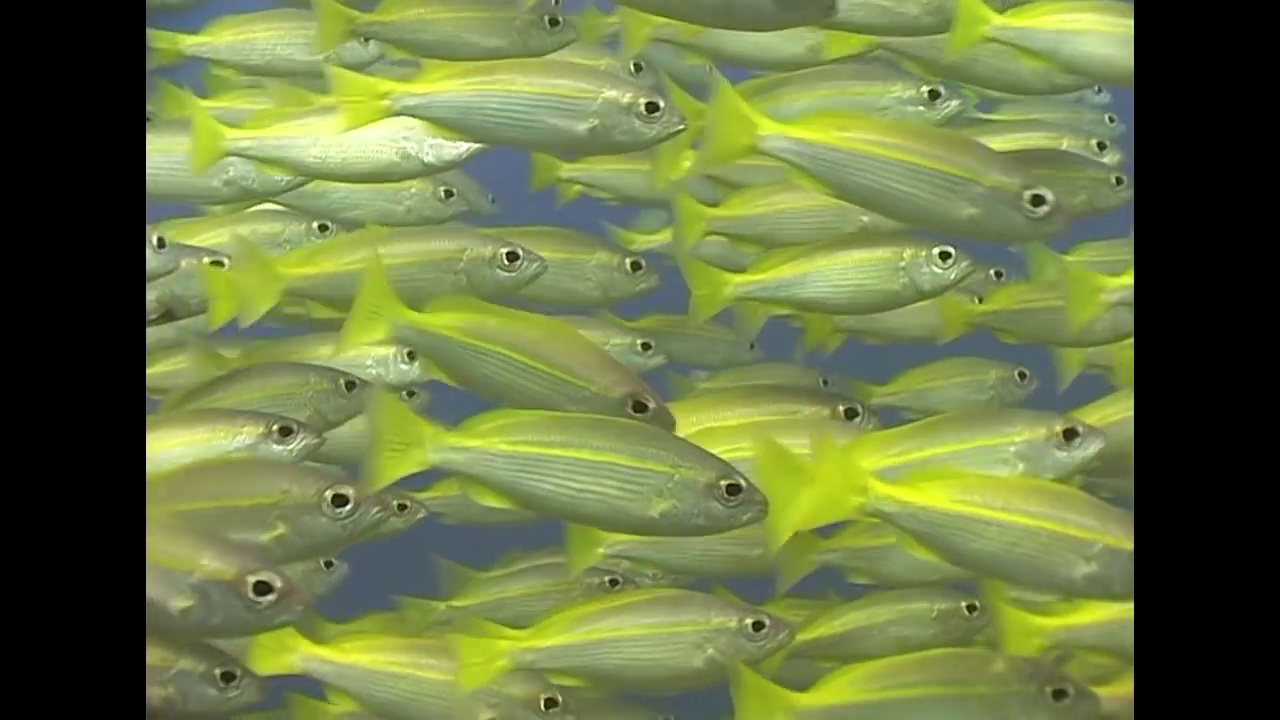big eye snapper: (702, 59, 1071, 238), (759, 424, 1131, 601), (364, 373, 769, 532), (351, 243, 675, 431), (449, 589, 802, 688), (225, 224, 550, 331), (265, 617, 578, 717), (771, 399, 1107, 490), (181, 86, 483, 175), (146, 462, 393, 563), (327, 71, 691, 136), (725, 655, 1100, 718), (679, 239, 973, 317), (767, 573, 998, 671), (144, 523, 309, 638), (728, 66, 967, 135), (666, 379, 876, 457), (662, 179, 878, 246), (946, 6, 1132, 81), (845, 345, 1038, 416), (149, 12, 381, 64), (309, 7, 582, 51), (523, 142, 714, 201), (269, 164, 480, 216), (169, 361, 381, 412), (146, 412, 332, 469), (496, 243, 661, 306), (142, 638, 271, 717), (986, 139, 1134, 207), (145, 197, 341, 244), (386, 566, 627, 602), (968, 93, 1124, 131), (538, 35, 654, 83), (545, 319, 665, 362), (373, 475, 439, 532), (306, 553, 350, 601), (1069, 74, 1114, 108)
